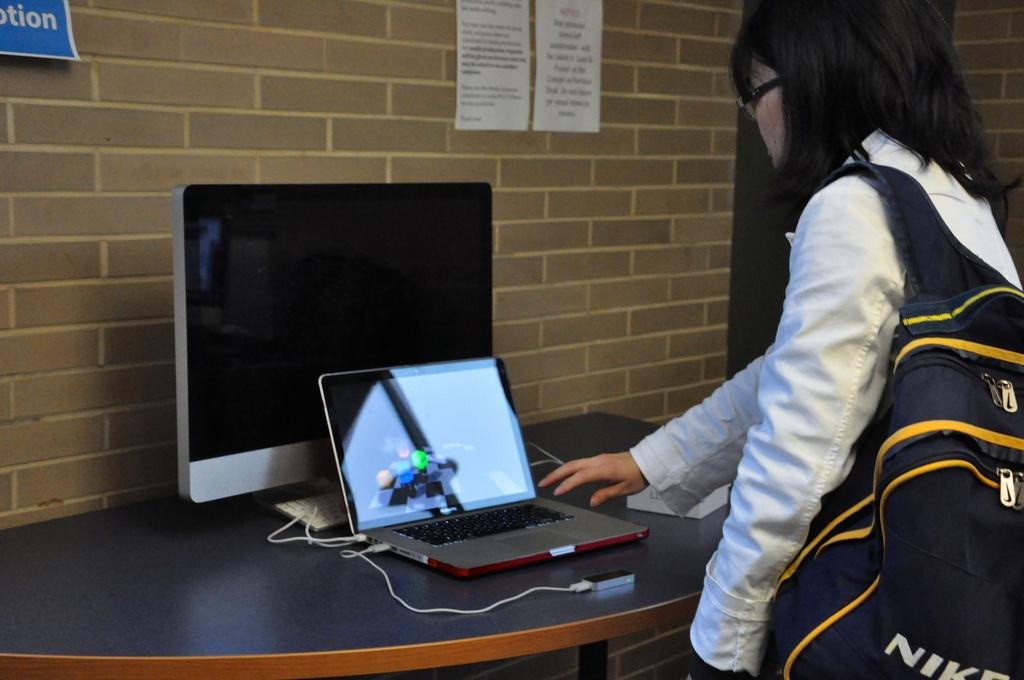Computer-monitor: (148, 185, 512, 510)
Laptop: (307, 362, 643, 589)
